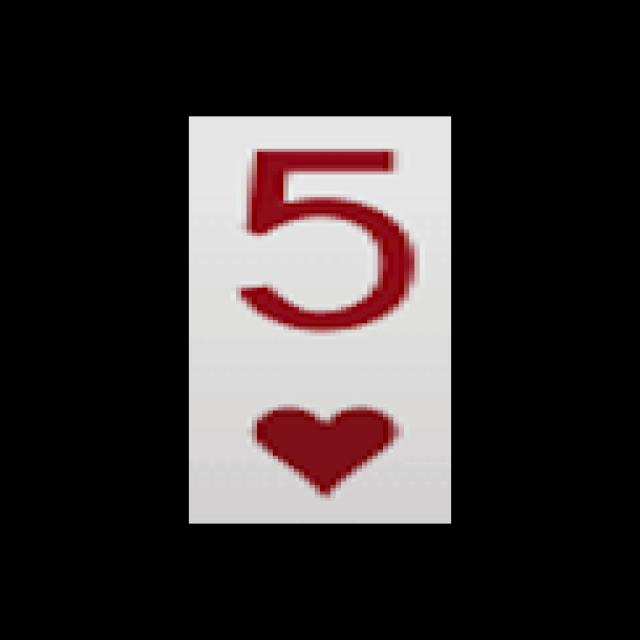5H: (212, 132, 435, 511)
